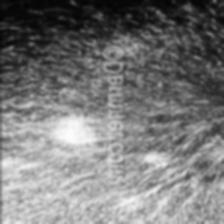Toxin: (49, 112, 101, 147), (139, 150, 174, 168)
